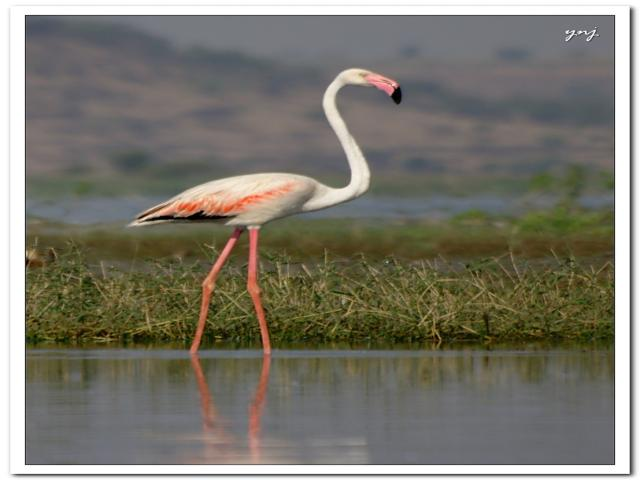Bird: (126, 65, 404, 353)
